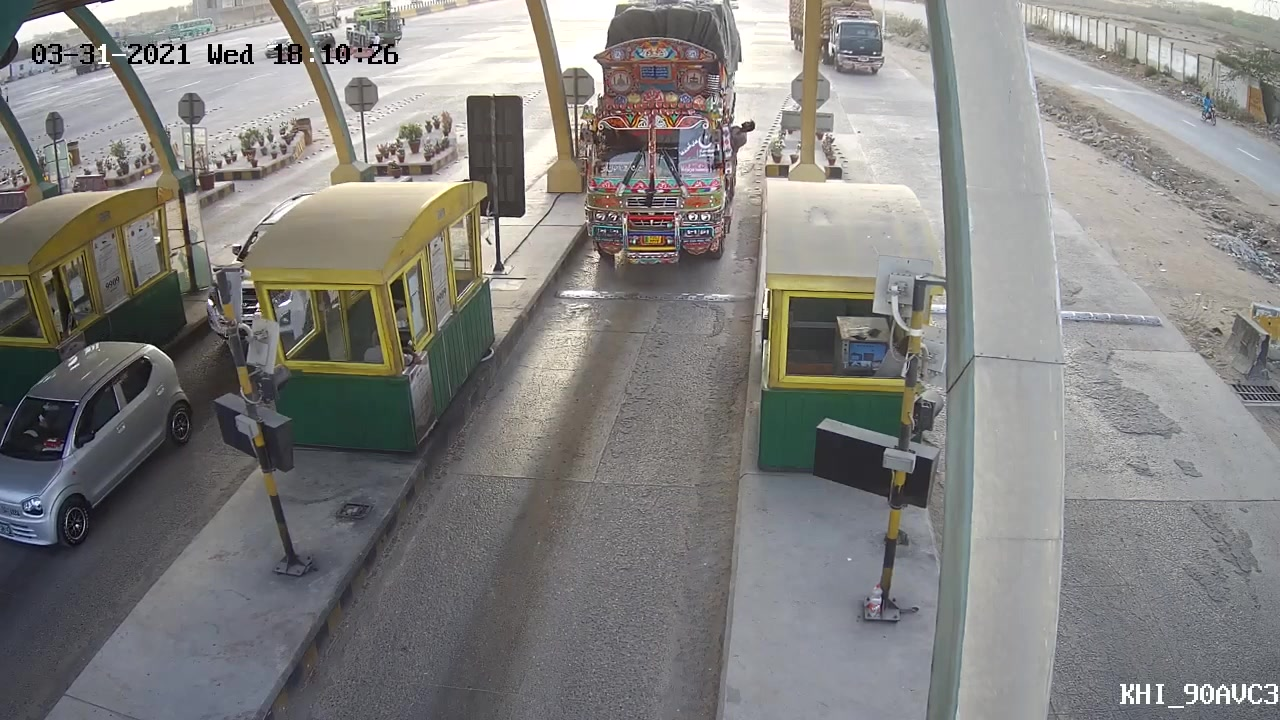F5: (570, 1, 759, 268)
